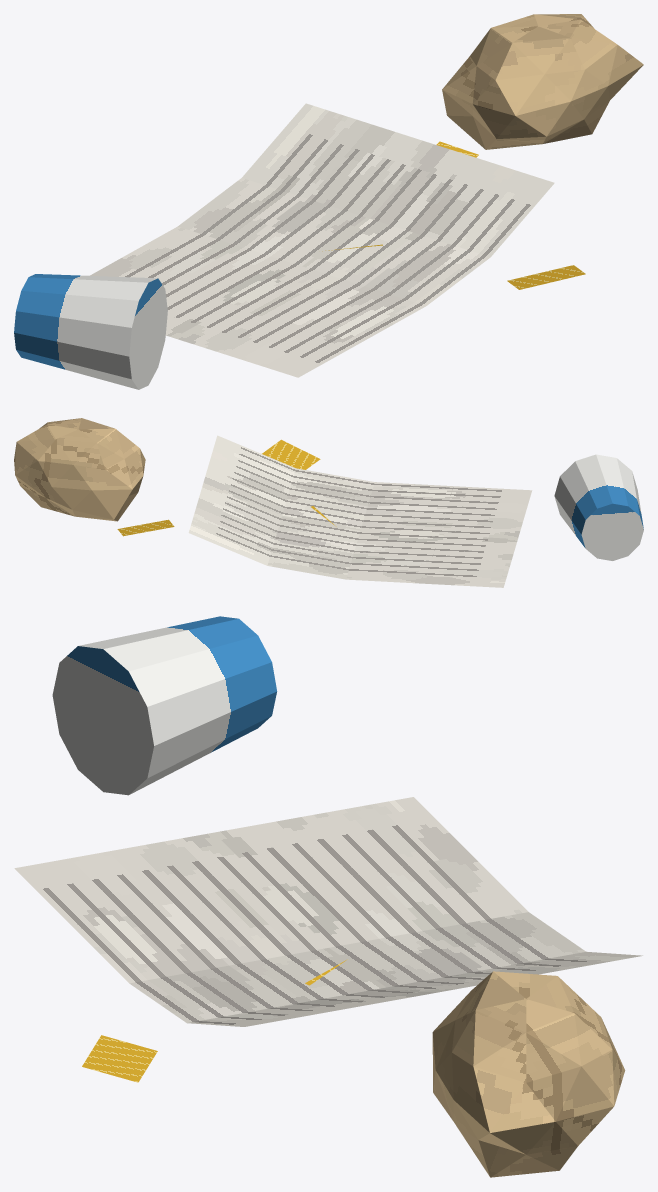
The model's file is park_litter.glb.
3 views of the same model, one above another, from view 1: azimuth 30°, elevation 25°; view 2: azimuth 150°, elevation 25°; view 3: azimuth 270°, elevation 25° (orthographic). The views are drawn at different scales.
Visible parts, largest first — view 1: Plane; view 2: Plane; view 3: Plane.
Boxes of the visible parts, x1,y1,x2,y2 form: Plane: (14, 14, 643, 389); Plane: (14, 418, 643, 587); Plane: (14, 616, 642, 1177).
Size of the model in its own units: 0.5973 by 0.0925 by 0.3195.
Materials: 4 (4 with a texture image).
